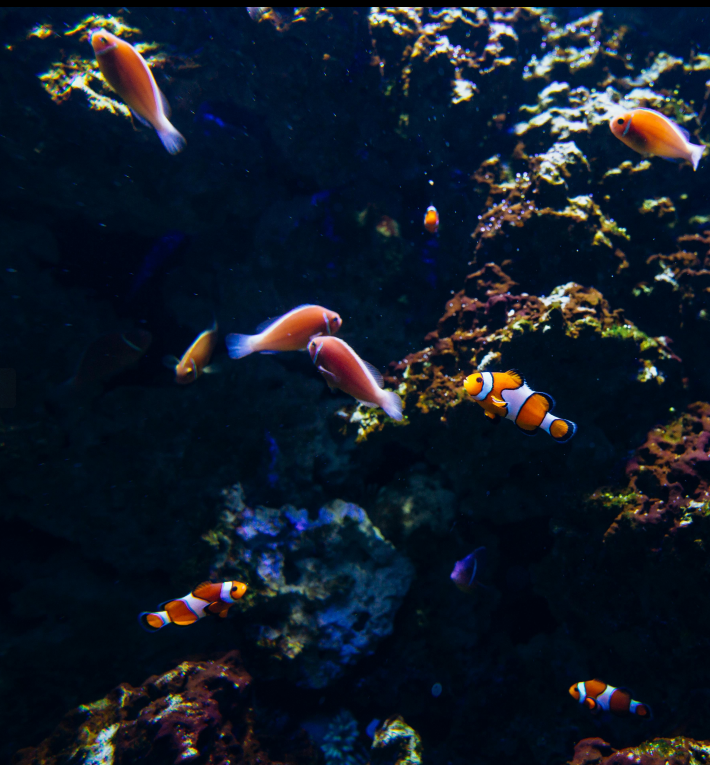fishSmall: (460, 365, 578, 446), (307, 333, 406, 423), (226, 302, 343, 361), (607, 106, 708, 172), (138, 578, 246, 635), (113, 85, 190, 157), (567, 673, 652, 720), (164, 318, 222, 385), (424, 200, 439, 236)
